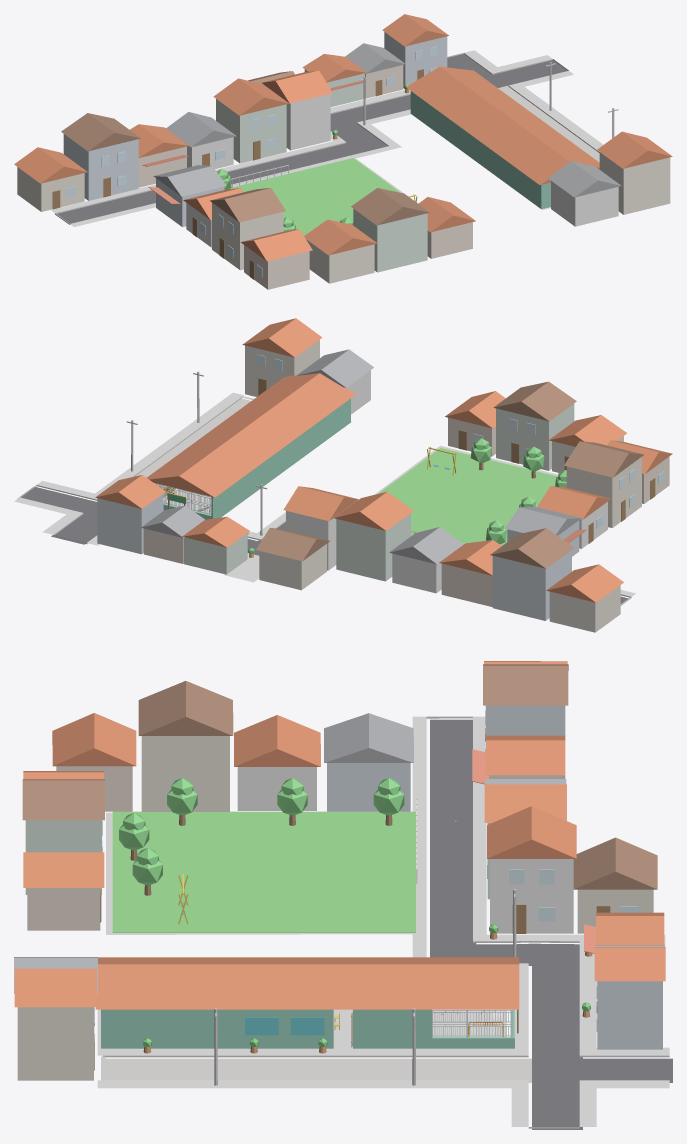
The model's file is denah_tes.fbx.
3 views of the same model, one above another, from view 1: azimuth 30°, elevation 25°; view 2: azimuth 150°, elevation 25°; view 3: azimuth 270°, elevation 25° (orthographic). The views are drawn at different scales.
Visible parts, largest first — view 1: Atap_Gedung_TK, aspal, Plane, Lapangan_Rumput, Rumah_Timur_2, Rumah_Selatan_2, Rumah_Timur_5, Rumah_Selatan_5, Rumah_Barat_2, Rumah_Utara_1, Rumah_Selatan_4, Rumah_Timur_1 (+12 smaller); view 2: Atap_Gedung_TK, Lapangan_Rumput, Rumah_Timur_2, Rumah_Timur_5, Plane, Rumah_Selatan_2, Rumah_Barat_2, Rumah_Selatan_5, Rumah_Utara_5, Rumah_Timur_1, tembok kelas, Rumah_Utara_2 (+13 smaller); view 3: Lapangan_Rumput, Plane, Atap_Gedung_TK, aspal, tembok kelas, Rumah_Barat_2, Rumah_Utara_1, paving, Rumah_Selatan_5, Rumah_Barat_4, Rumah_Utara_5, Rumah_Barat_3 (+15 smaller).
Part boxes in pixels (x1,y1,x2,y2): Atap_Gedung_TK: (406, 66, 599, 184); aspal: (57, 54, 568, 223); Plane: (51, 50, 603, 226); Lapangan_Rumput: (230, 158, 400, 239); Rumah_Timur_2: (61, 113, 140, 200); Rumah_Selatan_2: (351, 188, 429, 272); Rumah_Timur_5: (213, 78, 288, 163); Rumah_Selatan_5: (597, 131, 672, 214); Rumah_Barat_2: (210, 188, 285, 270); Rumah_Utara_1: (261, 70, 332, 150); Rumah_Selatan_4: (548, 161, 621, 226); Rumah_Timur_1: (14, 147, 87, 211); Atap_Gedung_TK: (147, 373, 355, 497); Lapangan_Rumput: (378, 448, 557, 545); Rumah_Timur_2: (490, 528, 574, 620); Rumah_Timur_5: (334, 491, 413, 581); Plane: (14, 392, 635, 605); Rumah_Selatan_2: (493, 381, 576, 470); Rumah_Barat_2: (564, 441, 643, 527); Rumah_Selatan_5: (242, 318, 322, 396); Rumah_Utara_5: (95, 475, 165, 554); Rumah_Timur_1: (546, 564, 623, 632); tembok kelas: (163, 398, 350, 519); Rumah_Utara_2: (256, 528, 329, 590); Lapangan_Rumput: (112, 811, 415, 932); Plane: (97, 716, 669, 1128); Atap_Gedung_TK: (95, 957, 519, 1009); aspal: (430, 719, 672, 1129); tembok kelas: (101, 1009, 514, 1048); Rumah_Barat_2: (138, 681, 233, 811); Rumah_Utara_1: (487, 806, 576, 933); paving: (101, 1056, 531, 1082); Rumah_Selatan_5: (14, 968, 96, 1080); Rumah_Barat_4: (324, 713, 413, 811); Rumah_Utara_5: (594, 947, 665, 1049); Rumah_Barat_3: (234, 715, 320, 810).
Size of the model in its own units: 6518 by 736 by 4322.
